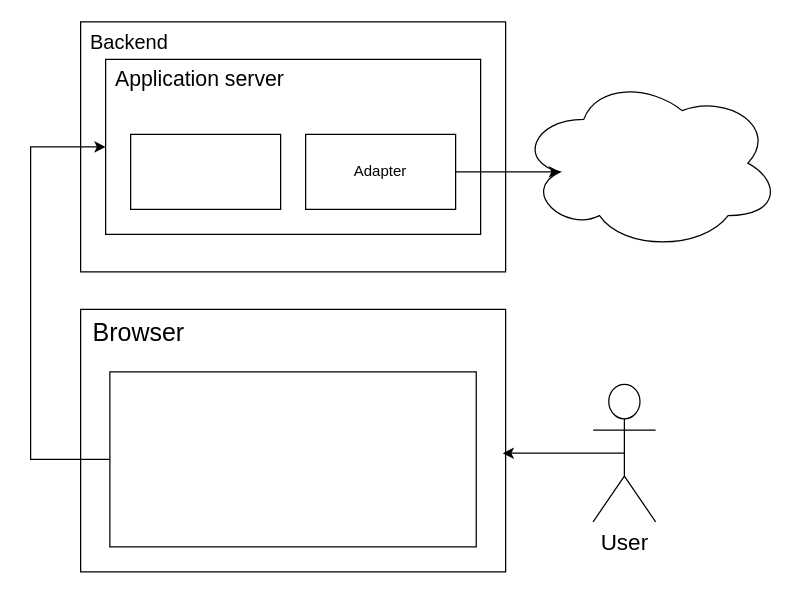
The diagram is 803 pixels wide and 594 high, and some of its shapes have lost their labels. The centre of each missing label's shape, as x and y in pixels:
Config: point 205,171
Extension: point 292,459
LLM API: point 649,162
